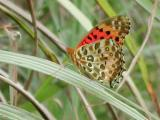Argyreus hyperbius: (64, 13, 135, 89)
butterfly: (64, 12, 135, 88)
